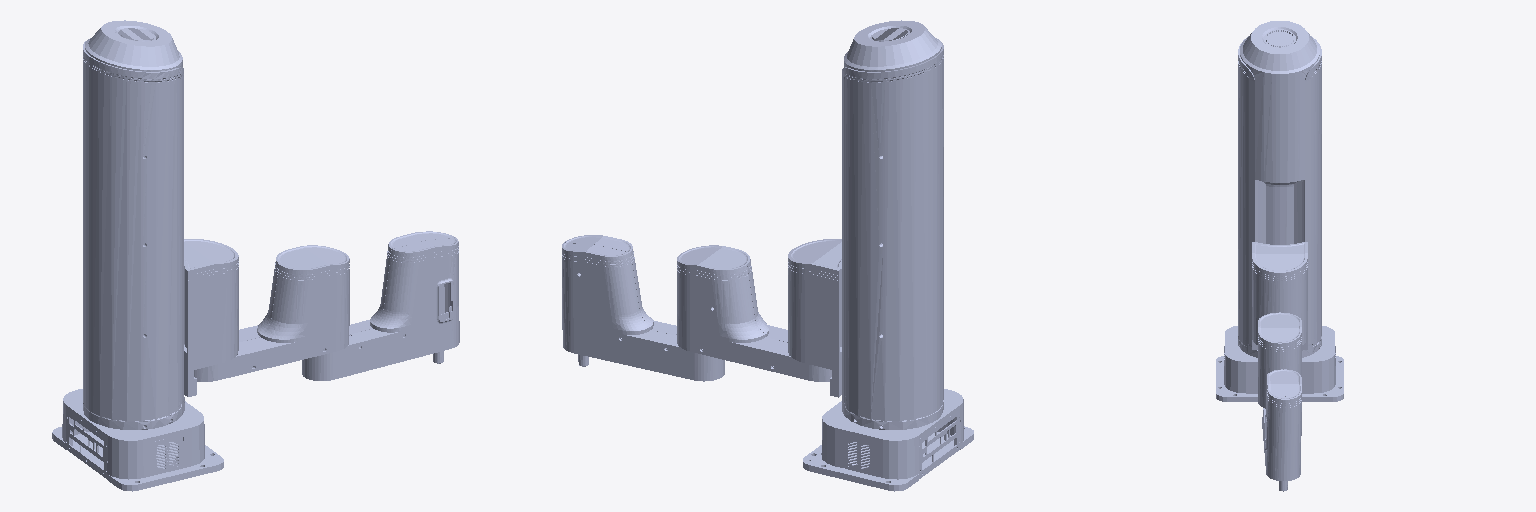
The robot description file, URDF, robot "m1pro_description":
<?xml version="1.0" encoding="utf-8"?>
<!-- This URDF was automatically created by SolidWorks to URDF Exporter! Originally created by [author] ([email redacted]) 
     Commit Version: 1.6.0-4-g7f85cfe  Build Version: 1.6.7995.38578
     For more information, please see http://wiki.ros.org/sw_urdf_exporter -->
<robot
  name="m1pro_description">
  <link name="dummy_link" />
  <joint
    name="dummy_joint"
    type="fixed">
    <parent
      link="dummy_link" />
    <child
      link="base_link" />
  </joint>
  <link
    name="base_link">
    <inertial>
      <origin
        xyz="0.0020887 0.24592 -9.2948E-06"
        rpy="0 0 0" />
      <mass
        value="1.6489" />
      <inertia
        ixx="0.090971"
        ixy="0.002094"
        ixz="-4.8449E-06"
        iyy="0.009863"
        iyz="1.4427E-05"
        izz="0.089585" />
    </inertial>
    <visual>
      <origin
        xyz="0 0 0"
        rpy="0 0 0" />
      <geometry>
        <mesh
          filename="package://m1pro_description/meshes/base_link.STL" />
      </geometry>
      <material
        name="">
        <color
          rgba="0.79216 0.81961 0.93333 1" />
      </material>
    </visual>
    <collision>
      <origin
        xyz="0 0 0"
        rpy="0 0 0" />
      <geometry>
        <mesh
          filename="package://m1pro_description/meshes/base_link.STL" />
      </geometry>
    </collision>
  </link>
  <link
    name="Link1">
    <inertial>
      <origin
        xyz="0.096709 6.1822E-05 0.090051"
        rpy="0 0 0" />
      <mass
        value="0.34234" />
      <inertia
        ixx="0.0016183"
        ixy="1.9963E-06"
        ixz="-0.00029873"
        iyy="0.0016941"
        iyz="8.0481E-07"
        izz="0.00088121" />
    </inertial>
    <visual>
      <origin
        xyz="0 0 0"
        rpy="0 0 0" />
      <geometry>
        <mesh
          filename="package://m1pro_description/meshes/Link1.STL" />
      </geometry>
      <material
        name="">
        <color
          rgba="0.79216 0.81961 0.93333 1" />
      </material>
    </visual>
    <collision>
      <origin
        xyz="0 0 0"
        rpy="0 0 0" />
      <geometry>
        <mesh
          filename="package://m1pro_description/meshes/Link1.STL" />
      </geometry>
    </collision>
  </link>
  <joint
    name="joint1"
    type="prismatic">
    <origin
      xyz="-0.003 0 0.0959"
      rpy="0 0 0" />
    <parent
      link="base_link" />
    <child
      link="Link1" />
    <axis
      xyz="0 0 1" />
    <limit
      lower="0"
      upper="0.25"
      effort="0"
      velocity="0" />
  </joint>
  <link
    name="Link2">
    <inertial>
      <origin
        xyz="0.11428 -2.1681E-05 0.038255"
        rpy="0 0 0" />
      <mass
        value="0.37995" />
      <inertia
        ixx="0.00096644"
        ixy="2.2955E-06"
        ixz="-0.00059955"
        iyy="0.0031741"
        iyz="-2.4057E-09"
        izz="0.0027963" />
    </inertial>
    <visual>
      <origin
        xyz="0 0 0"
        rpy="0 0 0" />
      <geometry>
        <mesh
          filename="package://m1pro_description/meshes/Link2.STL" />
      </geometry>
      <material
        name="">
        <color
          rgba="0.79216 0.81961 0.93333 1" />
      </material>
    </visual>
    <collision>
      <origin
        xyz="0 0 0"
        rpy="0 0 0" />
      <geometry>
        <mesh
          filename="package://m1pro_description/meshes/Link2.STL" />
      </geometry>
    </collision>
  </link>
  <joint
    name="joint2"
    type="continuous">
    <origin
      xyz="0.123 0 0.0099745"
      rpy="0 0 0" />
    <parent
      link="Link1" />
    <child
      link="Link2" />
    <axis
      xyz="0 0 1" />
  </joint>
  <link
    name="Link3">
    <inertial>
      <origin
        xyz="0.097934 0.00036211 0.0056251"
        rpy="0 0 0" />
      <mass
        value="0.33738" />
      <inertia
        ixx="0.00099637"
        ixy="-1.0881E-06"
        ixz="-0.00074781"
        iyy="0.003254"
        iyz="-3.8055E-07"
        izz="0.0025681" />
    </inertial>
    <visual>
      <origin
        xyz="0 0 0"
        rpy="0 0 0" />
      <geometry>
        <mesh
          filename="package://m1pro_description/meshes/Link3.STL" />
      </geometry>
      <material
        name="">
        <color
          rgba="0.79216 0.81961 0.93333 1" />
      </material>
    </visual>
    <collision>
      <origin
        xyz="0 0 0"
        rpy="0 0 0" />
      <geometry>
        <mesh
          filename="package://m1pro_description/meshes/Link3.STL" />
      </geometry>
    </collision>
  </link>
  <joint
    name="joint3"
    type="continuous">
    <origin
      xyz="0.2 0 0"
      rpy="-0.017453 0 0.034228" />
    <parent
      link="Link2" />
    <child
      link="Link3" />
    <axis
      xyz="0 0.017452 -0.99985" />
  </joint>
  <link
    name="Link4">
    <inertial>
      <origin
        xyz="3.505E-13 -1.5772E-11 -0.038921"
        rpy="0 0 0" />
      <mass
        value="0.010941" />
      <inertia
        ixx="7.2568E-06"
        ixy="4.4734E-21"
        ixz="6.1388E-17"
        iyy="7.2589E-06"
        iyz="-4.5944E-15"
        izz="4.4133E-07" />
    </inertial>
    <visual>
      <origin
        xyz="0 0 0.08081"
        rpy="0 0 0" />
      <geometry>
        <mesh
          filename="package://m1pro_description/meshes/Link4.STL" />
      </geometry>
      <material
        name="">
        <color
          rgba="0.79216 0.81961 0.93333 1" />
      </material>
    </visual>
    <collision>
      <origin
        xyz="0 0 0"
        rpy="0 0 0" />
      <geometry>
        <mesh
          filename="package://m1pro_description/meshes/Link4.STL" />
      </geometry>
    </collision>
  </link>
  <joint
    name="joint4"
    type="continuous">
    <origin
      xyz="0.2 0.00020895 -0.08081"
      rpy="0 0 0" />
    <parent
      link="Link3" />
    <child
      link="Link4" />
    <axis
      xyz="0 0 1" />
  </joint>
</robot>

--- Render facts (derived) ---
Views: 3 orthographic renders of the robot side by side, from view 1: azimuth 30°, elevation 25°; view 2: azimuth 150°, elevation 25°; view 3: azimuth 270°, elevation 25°.
Robot: m1pro_description — 6 links, 5 joints (3 continuous, 1 prismatic, 1 fixed); root link dummy_link; default pose: all joints at 0.
Visible links, largest first — view 1: base_link, Link3, Link2, Link1; view 2: base_link, Link3, Link2, Link1; view 3: base_link, Link1, Link3, Link2.
Link boxes in pixels (x1,y1,x2,y2): base_link: [52, 20, 223, 491]; Link3: [302, 231, 459, 380]; Link2: [194, 245, 349, 381]; Link1: [184, 239, 238, 396]; base_link: [803, 20, 973, 491]; Link3: [562, 235, 724, 381]; Link2: [677, 245, 831, 381]; Link1: [788, 239, 841, 397]; base_link: [1216, 21, 1343, 401]; Link1: [1252, 242, 1307, 349]; Link3: [1262, 369, 1301, 480]; Link2: [1258, 312, 1301, 408].
Size in the robot's own frame: 0.6314 by 0.2303 by 0.6876 metres.
Meshes: 5 distinct files referenced, 5 mesh visuals loaded (5 binary STL).
